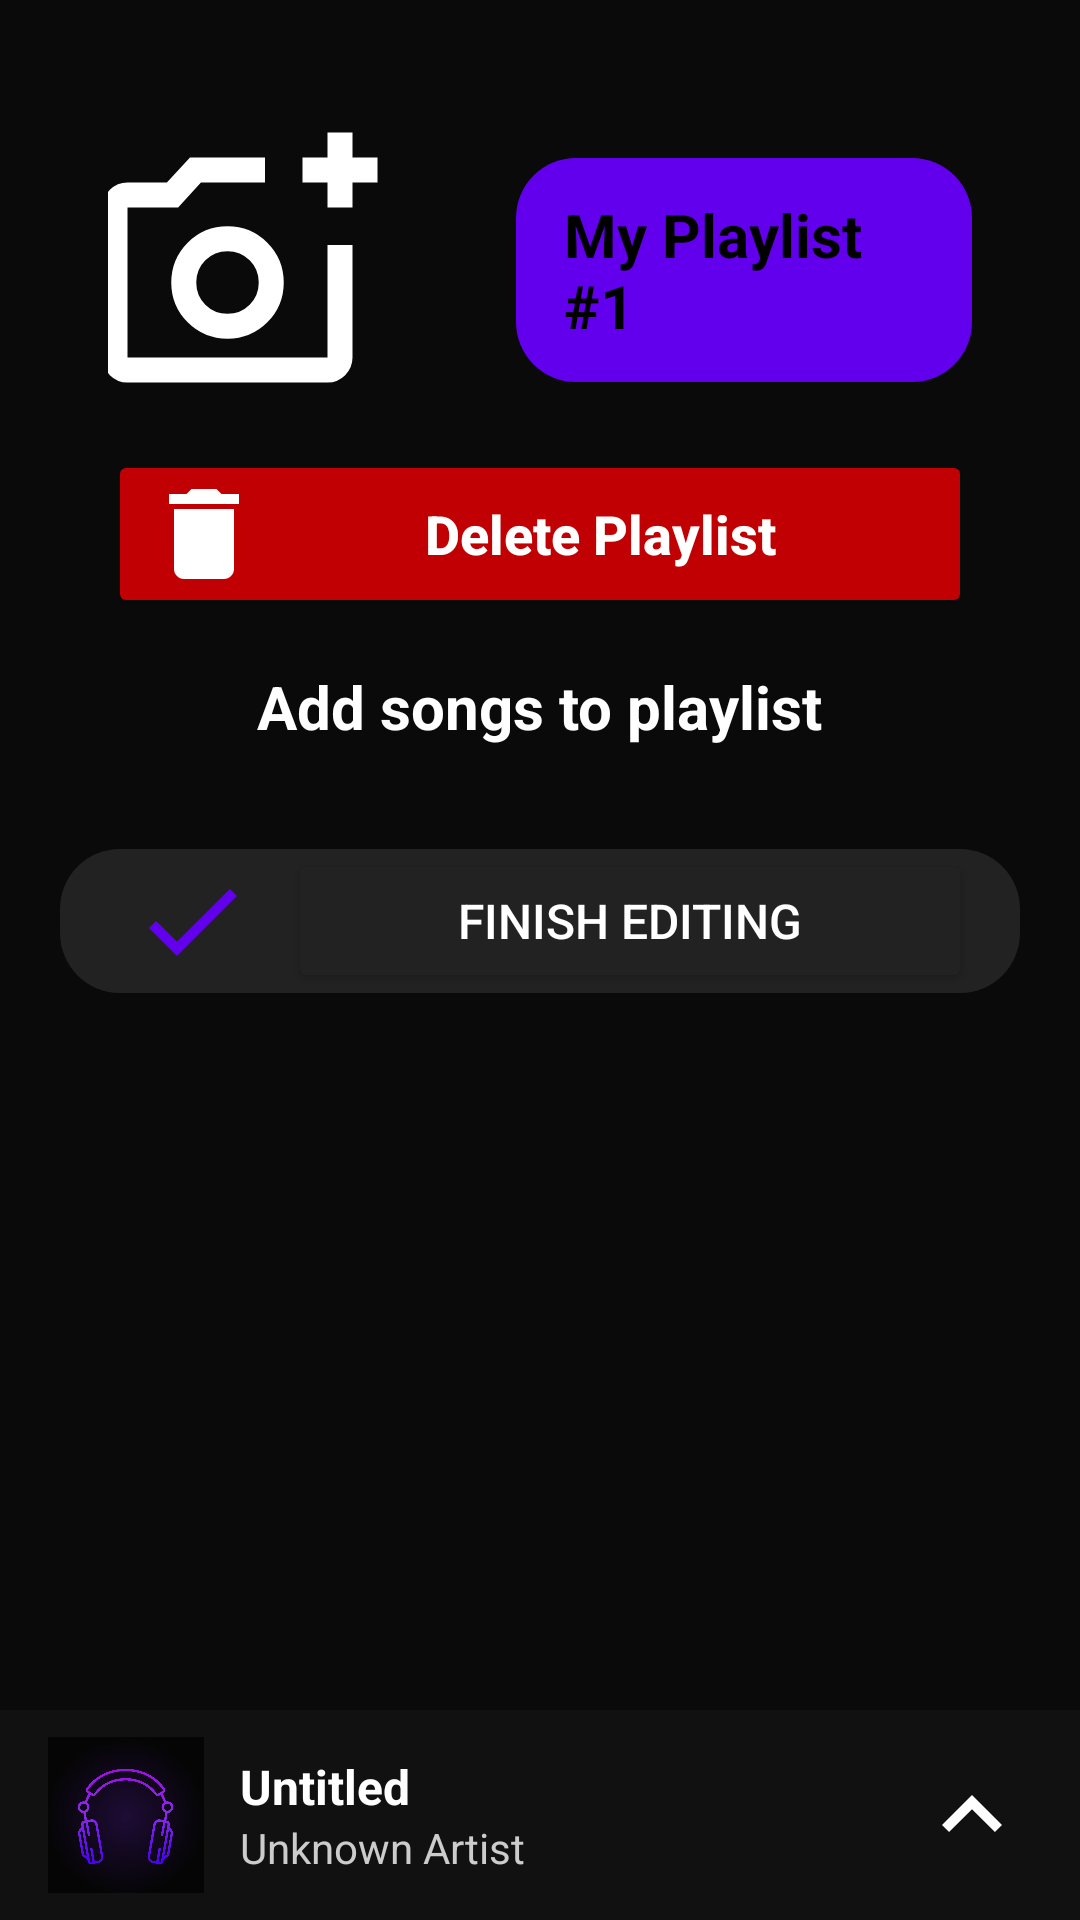

Icon click points for this 1080px×1920px phone screenshot, format [x,y]:
added: [193,922]
